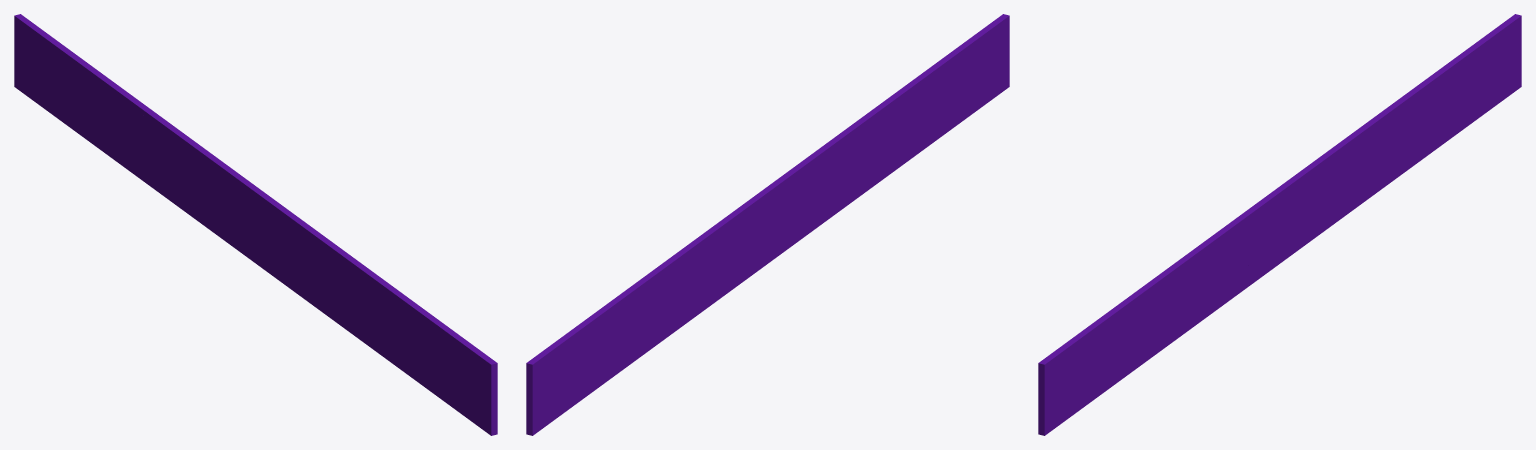
The model's file is Band_2_chunks.fbx.
The picture shows the model from 3 angles, left to right: view 1: azimuth 30°, elevation 25°; view 2: azimuth 150°, elevation 25°; view 3: azimuth 330°, elevation 25°; orthographic projection.
Visible parts, largest first — view 1: Band_2_5, Band_2_8, Band_2_7, Band_2_3, Band_2_4, Band_2_0, Band_2_9, Band_2_6, Band_2_2, Band_2_1; view 2: Band_2_5, Band_2_8, Band_2_7, Band_2_3, Band_2_4, Band_2_0, Band_2_9, Band_2_6, Band_2_2, Band_2_1; view 3: Band_2_8, Band_2_5, Band_2_7, Band_2_3, Band_2_4, Band_2_0, Band_2_1, Band_2_9, Band_2_6.
Boxes of the visible parts, <box> form: Band_2_5: <box>14,14,159,186</box>; Band_2_8: <box>349,265,497,435</box>; Band_2_7: <box>251,196,343,326</box>; Band_2_3: <box>151,159,254,261</box>; Band_2_4: <box>166,124,252,227</box>; Band_2_0: <box>181,131,270,221</box>; Band_2_9: <box>291,218,363,292</box>; Band_2_6: <box>342,292,408,375</box>; Band_2_2: <box>141,108,175,160</box>; Band_2_1: <box>253,233,307,301</box>; Band_2_5: <box>526,267,677,435</box>; Band_2_8: <box>867,14,1009,151</box>; Band_2_7: <box>770,156,861,230</box>; Band_2_3: <box>669,227,772,335</box>; Band_2_4: <box>676,224,771,286</box>; Band_2_0: <box>687,180,779,245</box>; Band_2_9: <box>808,110,880,161</box>; Band_2_6: <box>860,146,927,195</box>; Band_2_2: <box>657,246,693,295</box>; Band_2_1: <box>772,221,825,260</box>; Band_2_8: <box>1038,267,1191,435</box>; Band_2_5: <box>1375,14,1521,187</box>; Band_2_7: <box>1189,194,1279,328</box>; Band_2_3: <box>1285,162,1383,258</box>; Band_2_4: <box>1285,125,1378,231</box>; Band_2_0: <box>1269,133,1361,225</box>; Band_2_1: <box>1208,224,1286,315</box>; Band_2_9: <box>1168,217,1239,288</box>; Band_2_6: <box>1148,303,1190,359</box>.
Bounding box in the file's own units: 8.55 × 89.82 × 1091.
